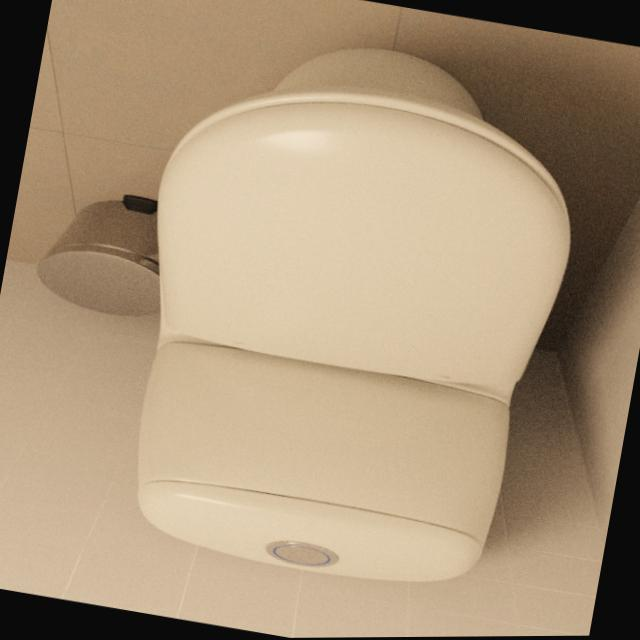toilet: (96, 13, 600, 609)
